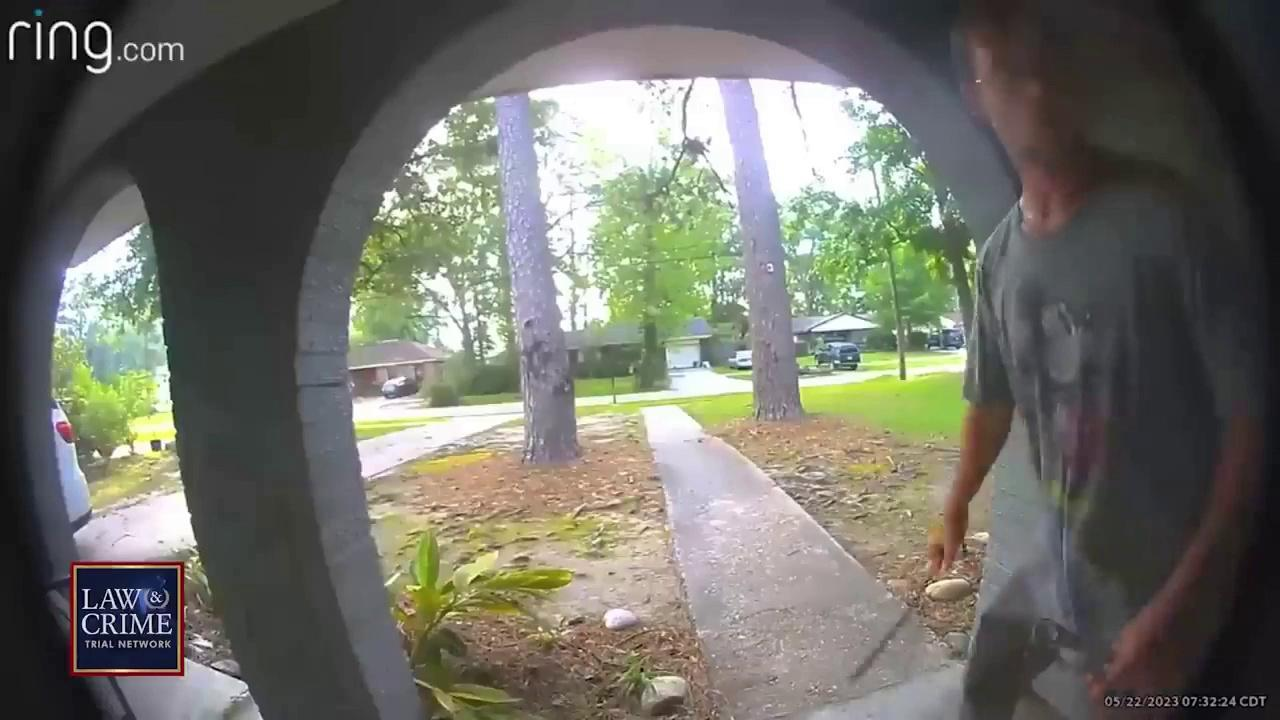suspicion: (762, 0, 1280, 720), (830, 530, 938, 706)
